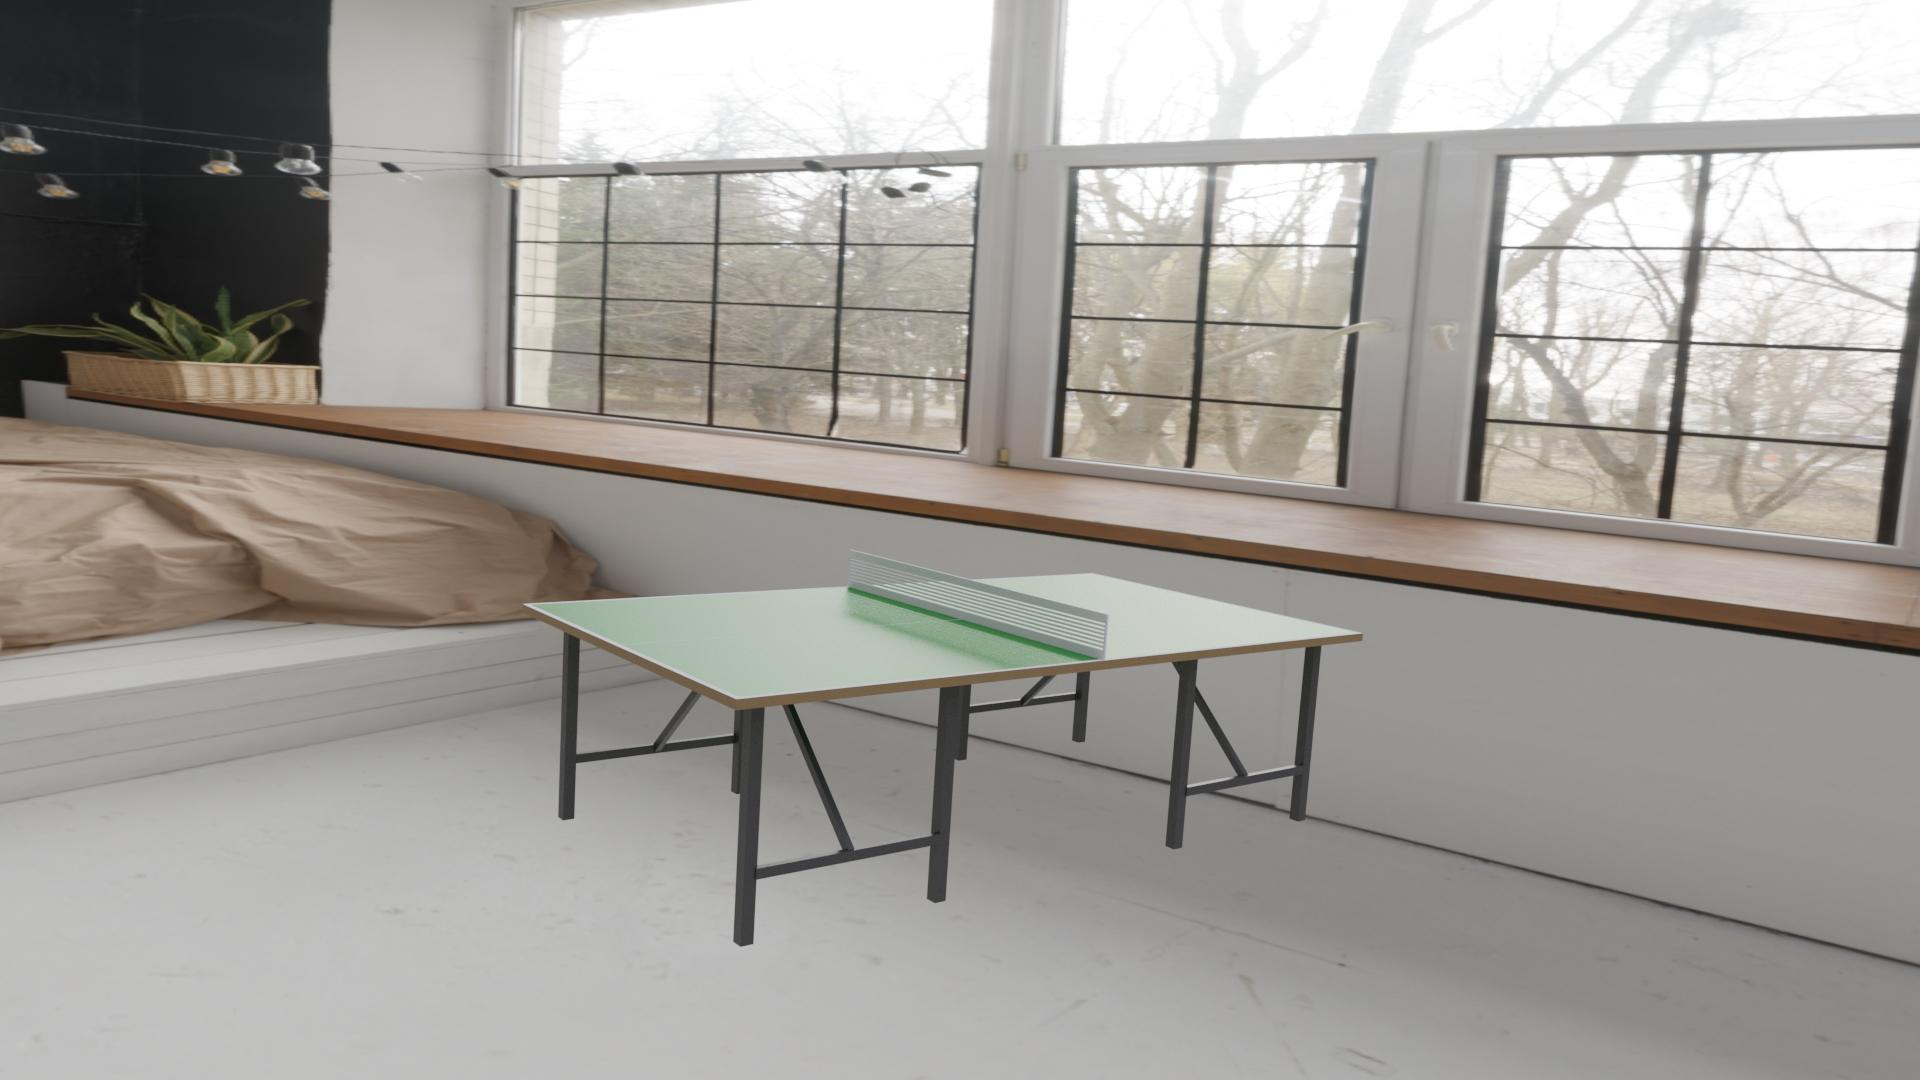table: (530, 574, 1356, 696)
